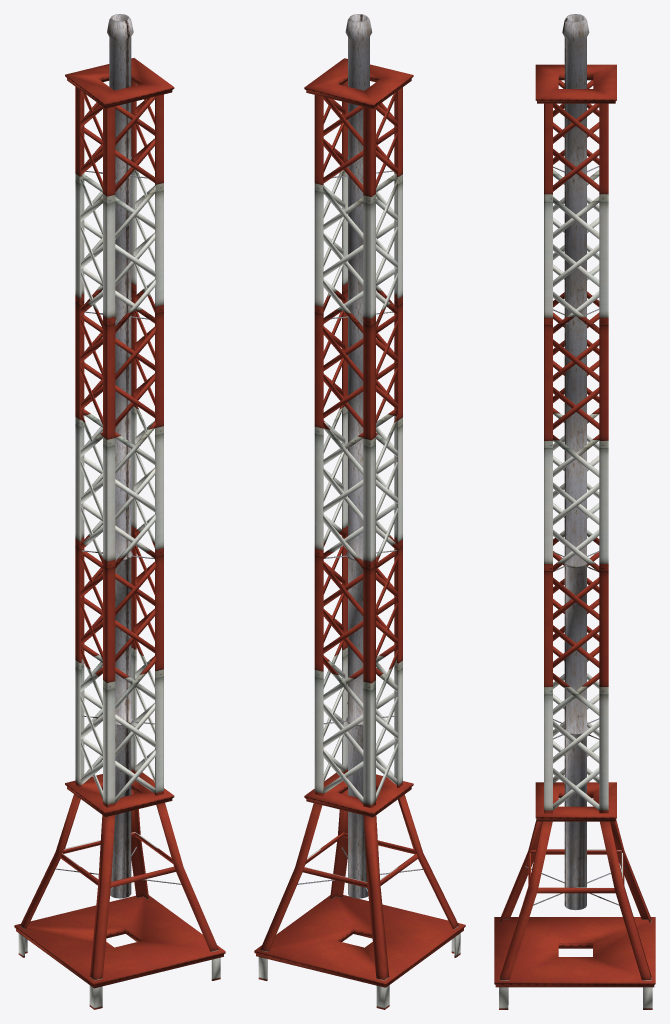
The model's file is arieals_1.obj.
The picture shows the model from 3 angles, left to right: view 1: azimuth 30°, elevation 25°; view 2: azimuth 150°, elevation 25°; view 3: azimuth 270°, elevation 25°; orthographic projection.
Visible parts, largest first — view 1: arieals_1.obj; view 2: arieals_1.obj; view 3: arieals_1.obj.
Part boxes in pixels (left/top/right/bottom): arieals_1.obj: left=14, top=14, right=225, bottom=1009; arieals_1.obj: left=254, top=14, right=465, bottom=1009; arieals_1.obj: left=494, top=14, right=655, bottom=1009.
Size of the model in its own units: 10.96 by 75.26 by 11.44.
2 materials, 2 textured.
